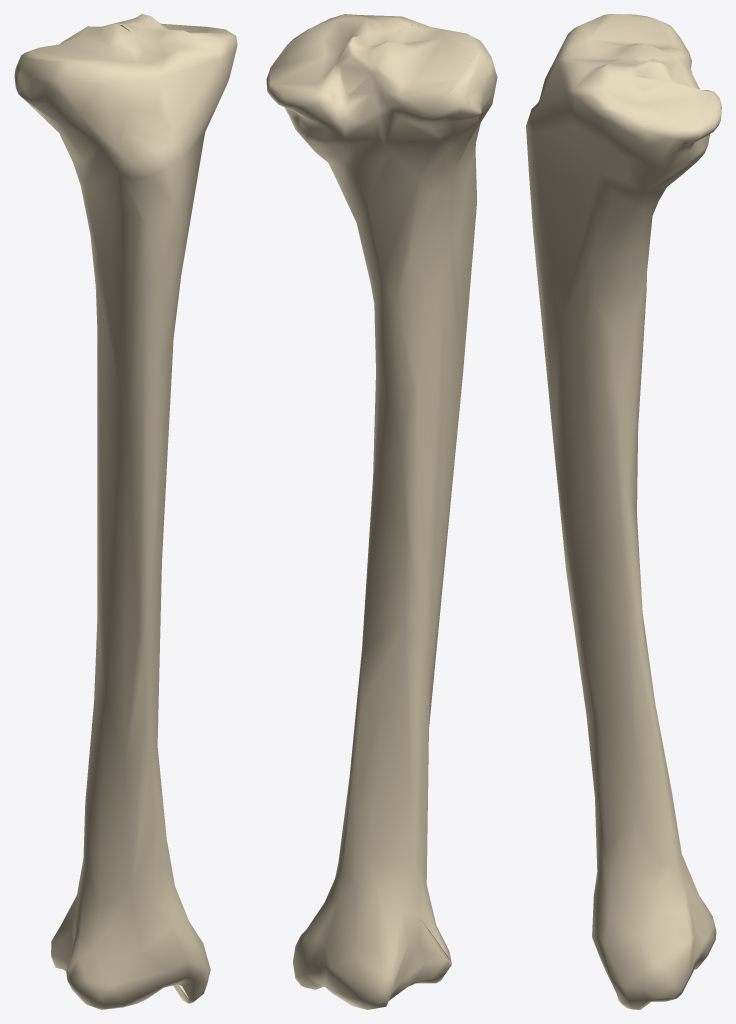
The model's file is esqueleto-tibia-r.glb.
The picture shows the model from 3 angles, left to right: view 1: azimuth 30°, elevation 25°; view 2: azimuth 150°, elevation 25°; view 3: azimuth 270°, elevation 25°; orthographic projection. The views are drawn at different scales.
Visible parts, largest first — view 1: Tibia.r; view 2: Tibia.r; view 3: Tibia.r.
Part boxes in pixels (x1=…): Tibia.r: x1=14, y1=14, x2=237, y2=1009; Tibia.r: x1=266, y1=14, x2=497, y2=1009; Tibia.r: x1=526, y1=14, x2=721, y2=1009.
Bounding box in the file's own units: 0.0784 × 0.358 × 0.0679.
